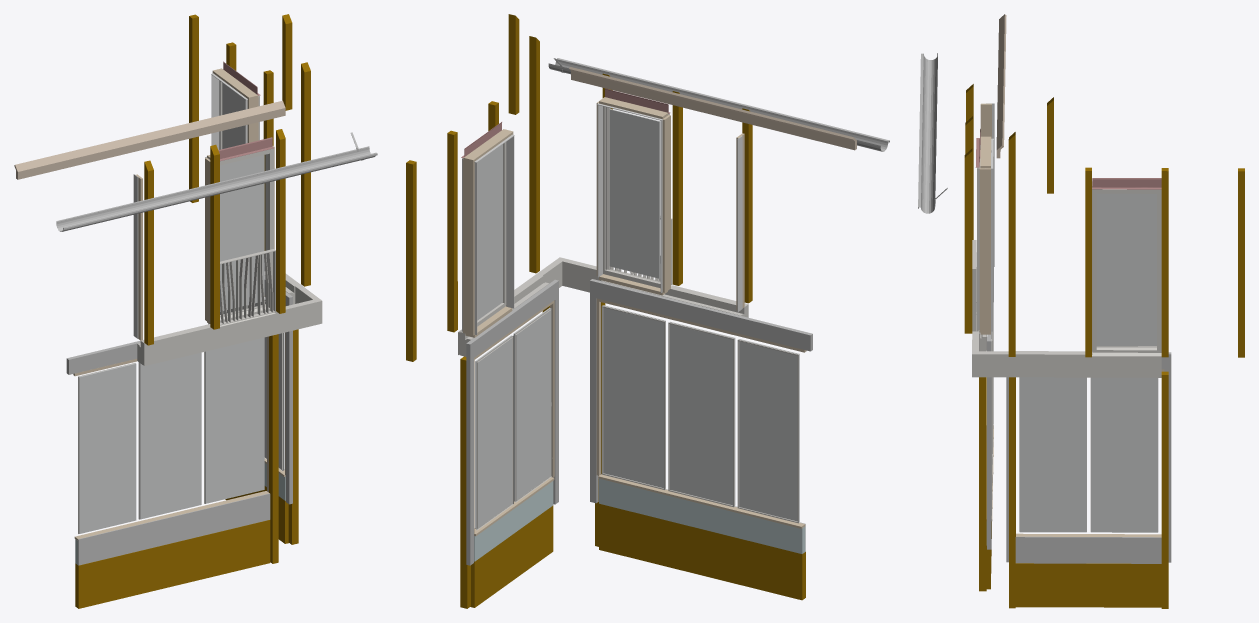
3 views of the same model, side by side, from view 1: azimuth 30°, elevation 25°; view 2: azimuth 150°, elevation 25°; view 3: azimuth 270°, elevation 25° (orthographic). The views are drawn at different scales.
Size of the model in its own units: 5.42 by 8.28 by 4.76.
